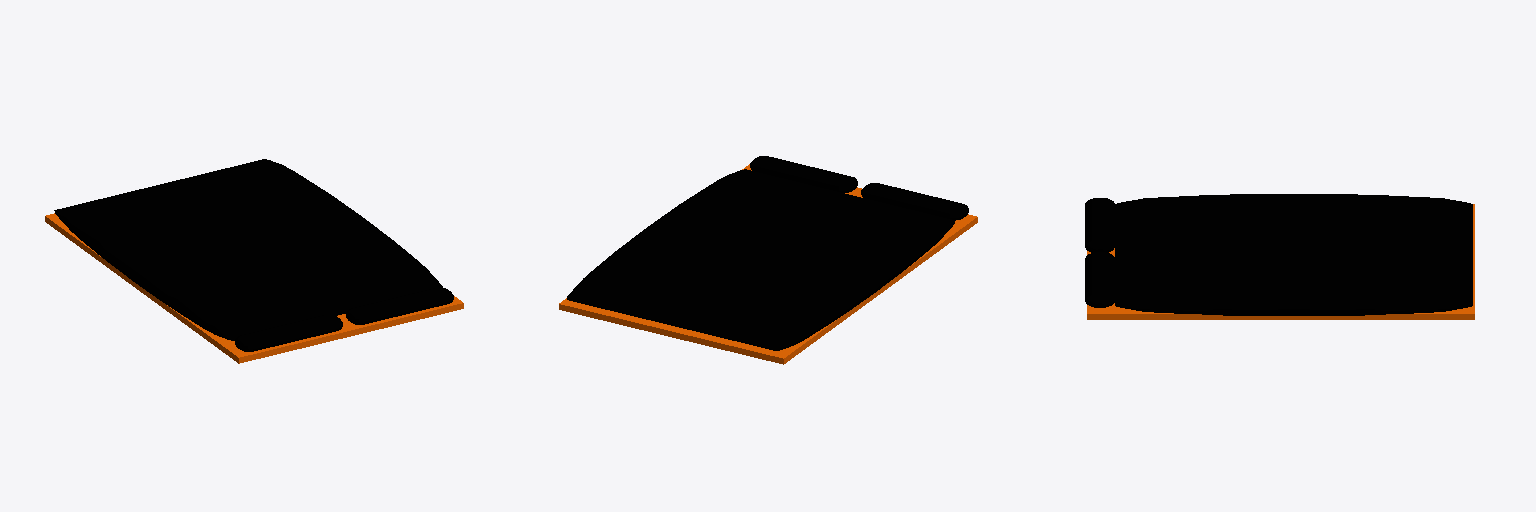
Rendered from bed.obj.
3 views of the same model, side by side, from view 1: azimuth 30°, elevation 25°; view 2: azimuth 150°, elevation 25°; view 3: azimuth 270°, elevation 25° (orthographic).
Parts seen in each view (by area): view 1: Capsule003, Box001, Capsule002, Capsule001; view 2: Capsule003, Box001, Capsule001, Capsule002; view 3: Capsule003, Box001, Capsule002, Capsule001.
Part boxes in pixels (bbox=[...]): Capsule003: bbox=[54, 159, 442, 340]; Box001: bbox=[45, 213, 463, 363]; Capsule002: bbox=[346, 287, 453, 324]; Capsule001: bbox=[235, 315, 342, 351]; Capsule003: bbox=[567, 169, 955, 350]; Box001: bbox=[559, 164, 977, 364]; Capsule001: bbox=[861, 183, 968, 219]; Capsule002: bbox=[750, 156, 857, 192]; Capsule003: bbox=[1115, 194, 1472, 315]; Box001: bbox=[1087, 204, 1474, 319]; Capsule002: bbox=[1085, 252, 1115, 307]; Capsule001: bbox=[1085, 198, 1115, 252].
Size of the model in its own units: 202 by 15.86 by 295.